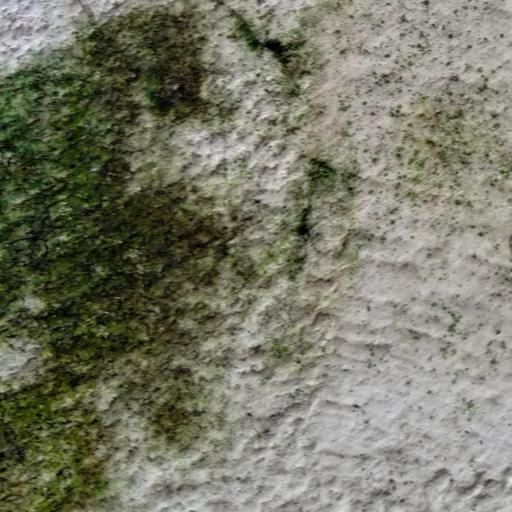algae: (0, 0, 343, 503)
